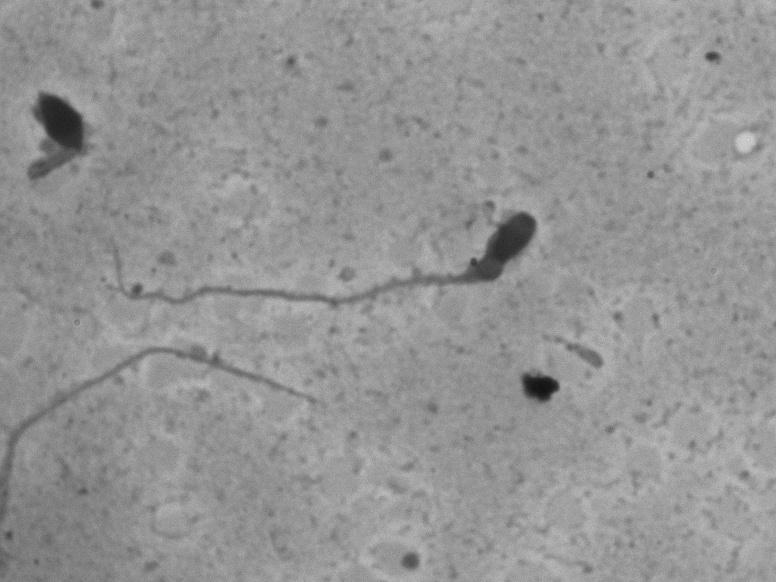Abnormal: (99, 188, 554, 332)
